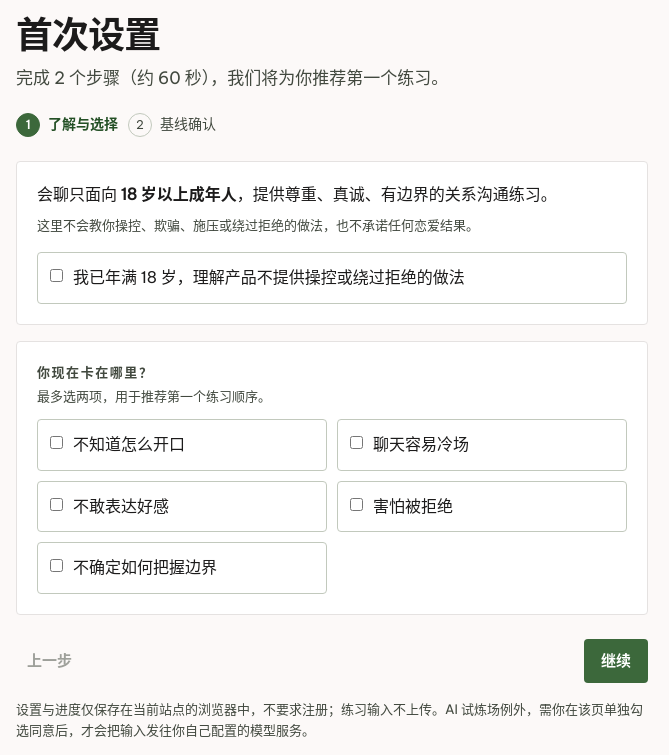
Test: 首次设置 › 未确认 18+ 时不能继续
Click the button "继续". click: (616, 661)
box: [584,639,648,683]
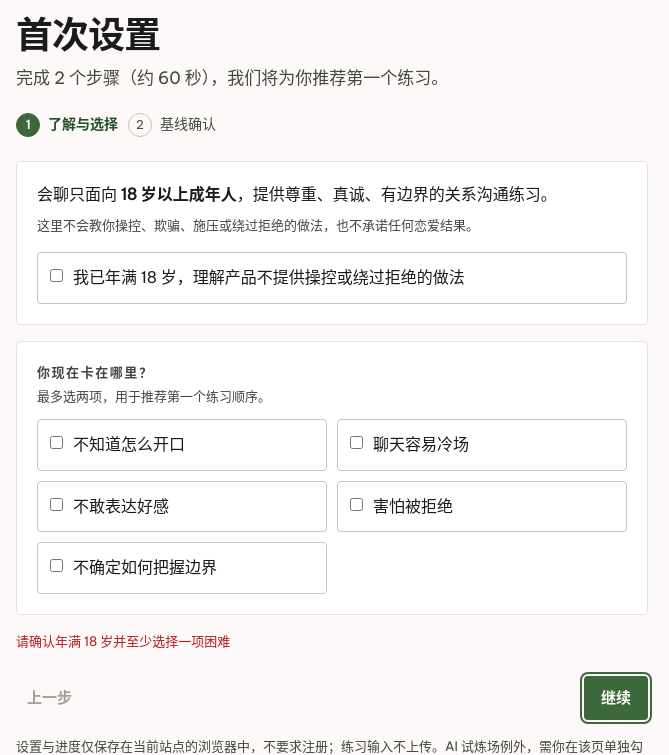
Expected: the message shows "18 岁", [16,633,230,649]
